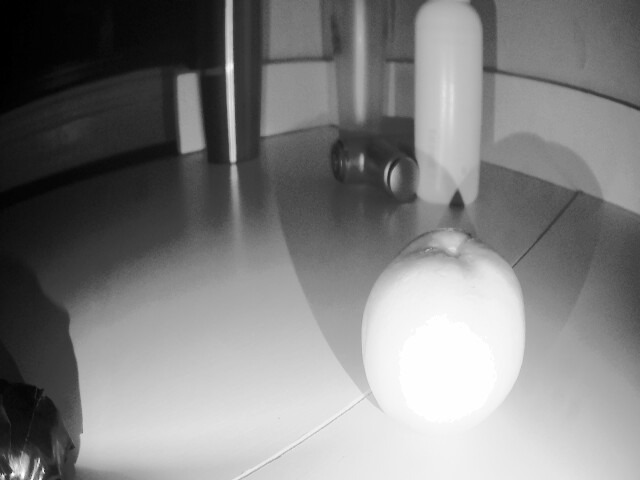silver: (0, 350, 145, 480)
